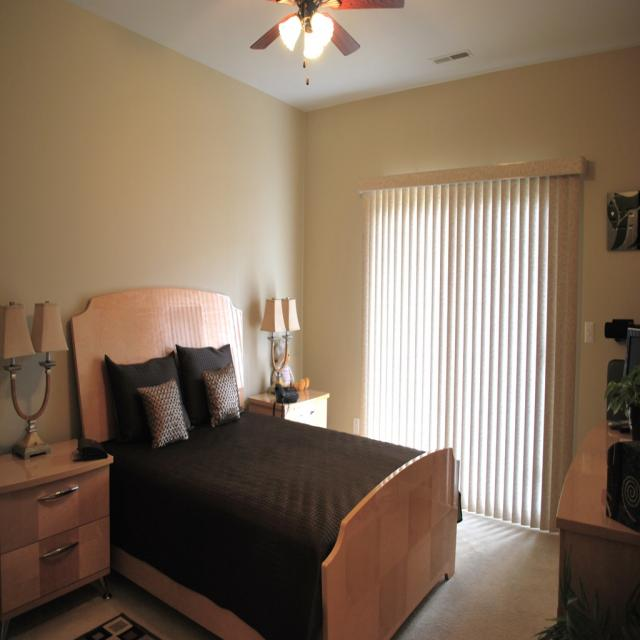Bulb: (249, 0, 405, 85)
